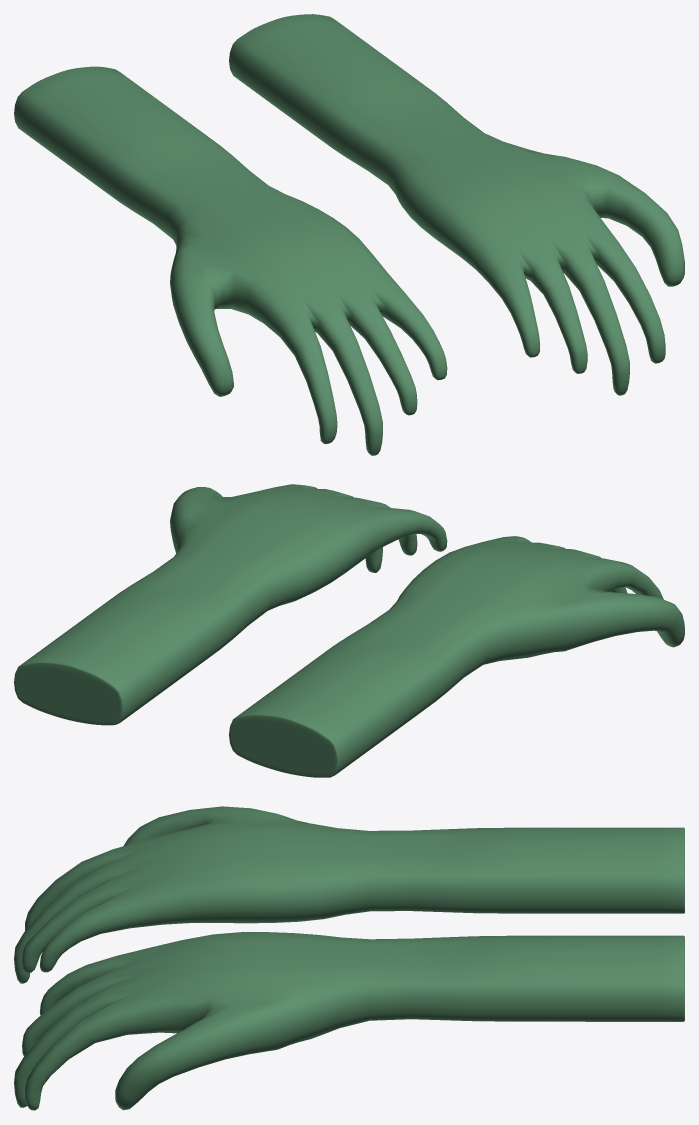
File: Two Hands.FBX
3 renders of one model, top to bottom at view 1: azimuth 30°, elevation 25°; view 2: azimuth 150°, elevation 25°; view 3: azimuth 270°, elevation 25°, orthographic. The views are drawn at different scales.
Visible parts, largest first — view 1: Box001, Box002; view 2: Box002, Box001; view 3: Box001, Box002.
Part boxes in pixels (x1,y1,x2,y2): Box001: [229, 14, 684, 395]; Box002: [14, 66, 447, 455]; Box002: [229, 536, 684, 777]; Box001: [14, 484, 447, 725]; Box001: [14, 932, 684, 1110]; Box002: [14, 806, 684, 983].
Bounding box in the file's own units: 420 × 122 × 492.
